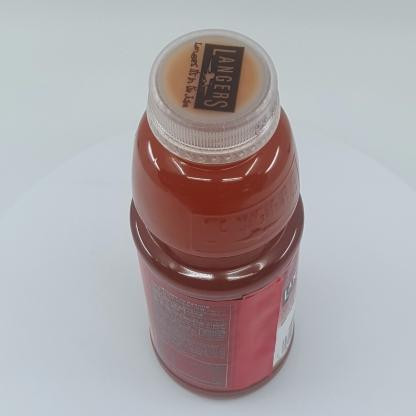-----449ML: (129, 29, 305, 399)
